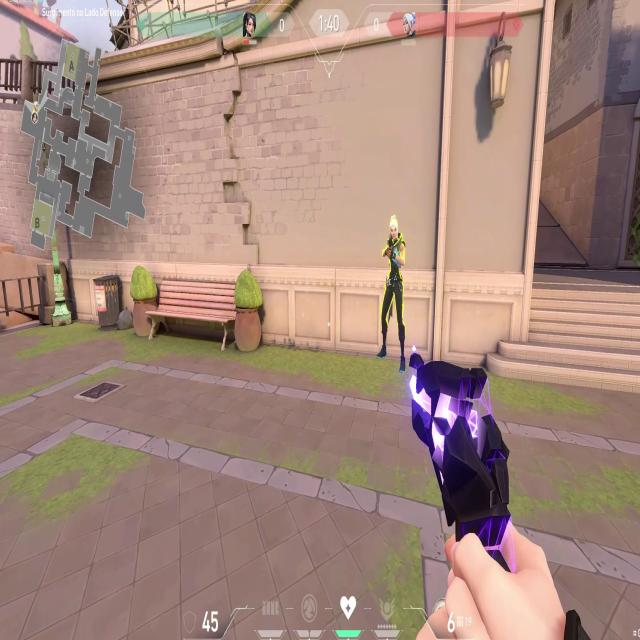head: (387, 213, 400, 242)
